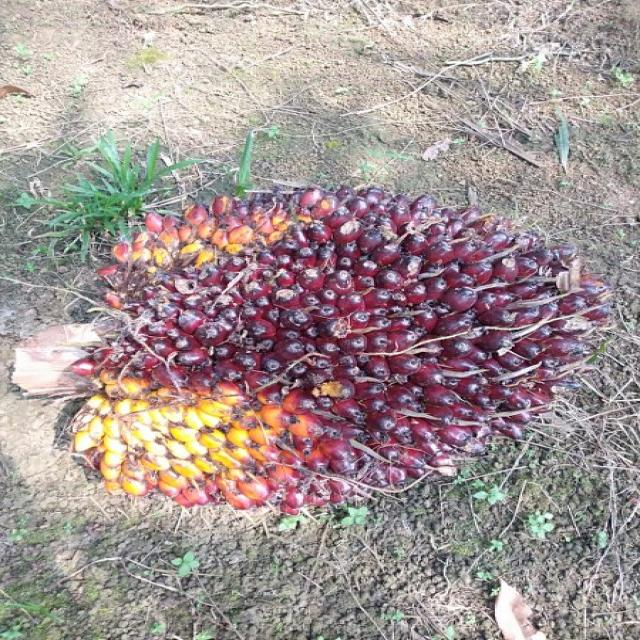fraksi 3: (59, 187, 606, 506)
